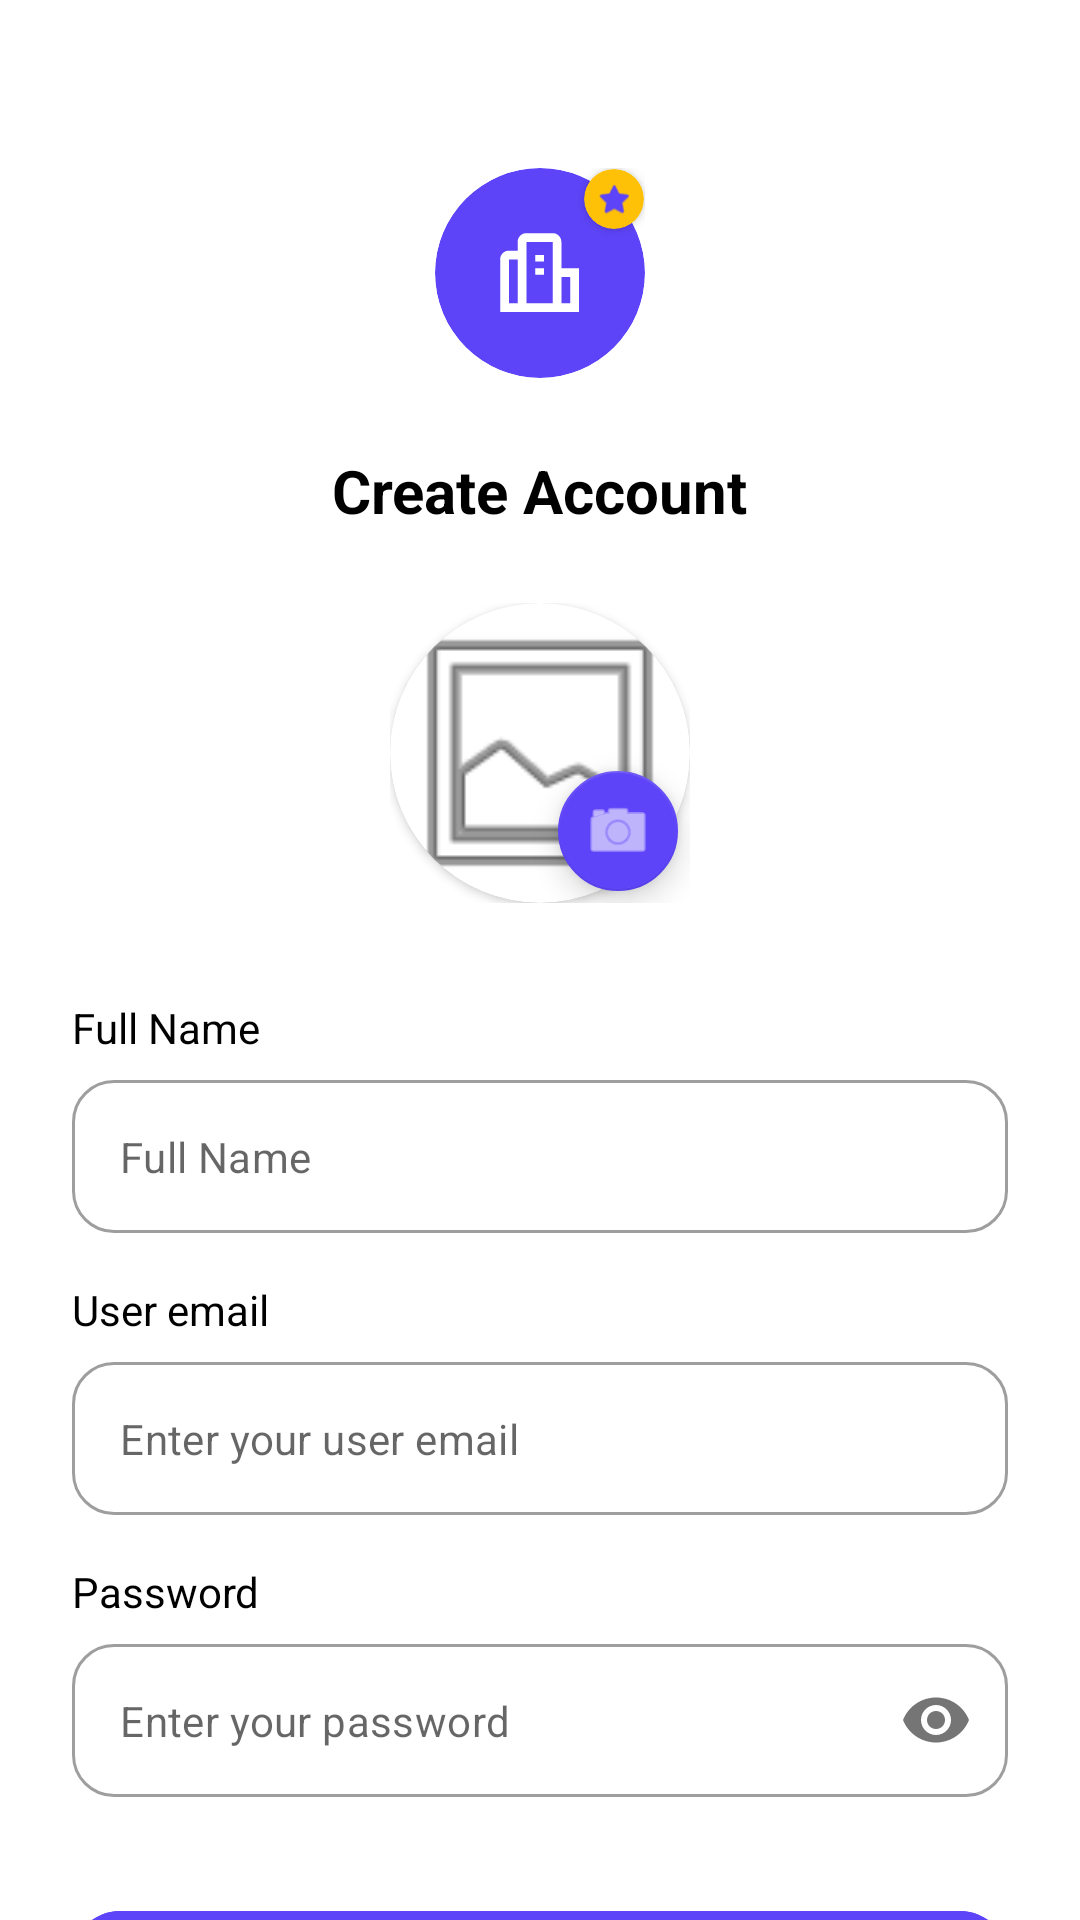

Icon bounding boxes for this 1080×1920 phone screenshot, format (left=x1, top=y1, right=x2, bottom=y2):
hotel: (left=500, top=233, right=579, bottom=312)
star on: (left=599, top=185, right=629, bottom=214)
